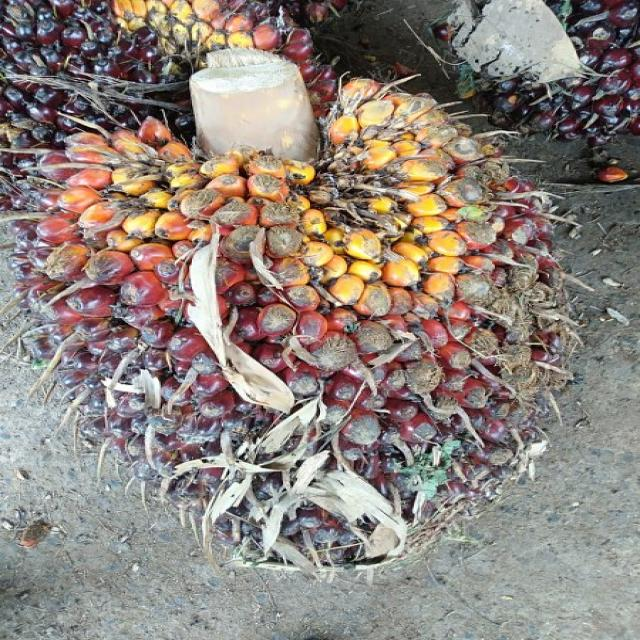fraksi 1: (8, 72, 585, 585)
